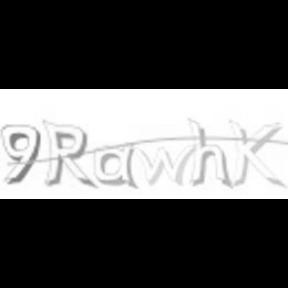9: (1, 122, 42, 184)
K: (227, 114, 287, 188)
R: (40, 117, 94, 189)
a: (91, 139, 139, 191)
h: (185, 115, 233, 189)
w: (134, 144, 198, 186)
